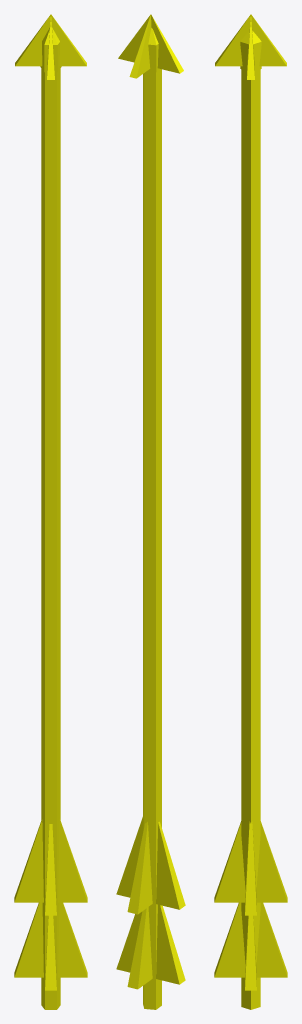
File: _arrow_b_23.glb
The picture shows the model from 3 angles, left to right: view 1: azimuth 90°, elevation 25°; view 2: azimuth 150°, elevation 25°; view 3: azimuth 270°, elevation 25°; orthographic projection.
Parts seen in each view (by area): view 1: arrow_b_23; view 2: arrow_b_23; view 3: arrow_b_23.
Boxes of the visible parts, box(x1,y1,x2,y2) form: arrow_b_23: box(14, 14, 87, 1009); arrow_b_23: box(116, 14, 185, 1009); arrow_b_23: box(214, 14, 287, 1009).
Bounding box in the file's own units: 1242 × 18568 × 1242.
